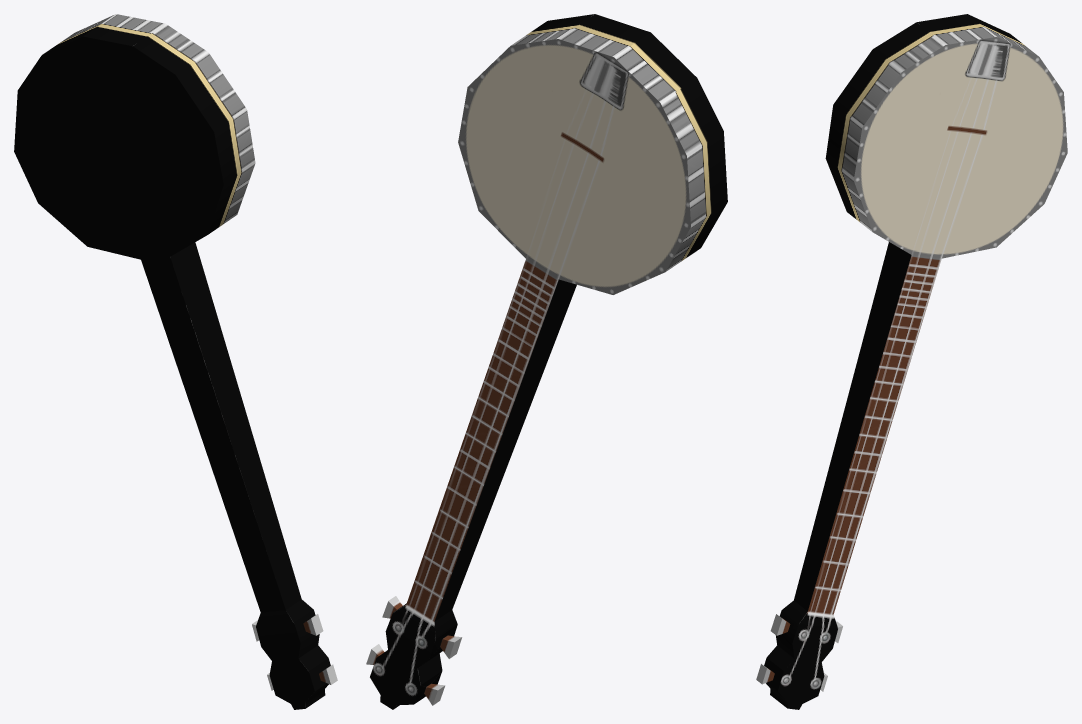
The model's file is Guitarra1_000009.obj.
3 views of the same model, side by side, from view 1: azimuth 30°, elevation 25°; view 2: azimuth 210°, elevation 25°; view 3: azimuth 270°, elevation 25° (orthographic). The views are drawn at different scales.
Parts seen in each view (by area): view 1: g1_pCube6; view 2: g1_pCube6; view 3: g1_pCube6.
Boxes of the visible parts, box(x1,y1,x2,y2) form: g1_pCube6: box(14, 14, 337, 709); g1_pCube6: box(366, 14, 727, 709); g1_pCube6: box(756, 14, 1067, 709).
Size of the model in its own units: 3.96 by 12.78 by 5.74.
